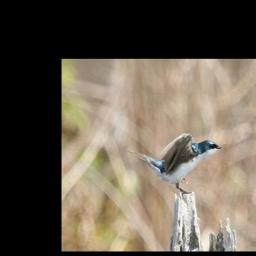Swallow: (128, 131, 223, 195)
